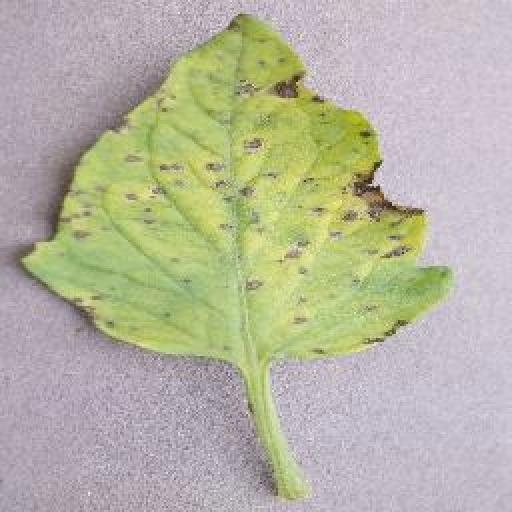disease_tomato: (16, 10, 454, 358)
